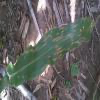Corn leaf blight: (16, 16, 98, 83)
